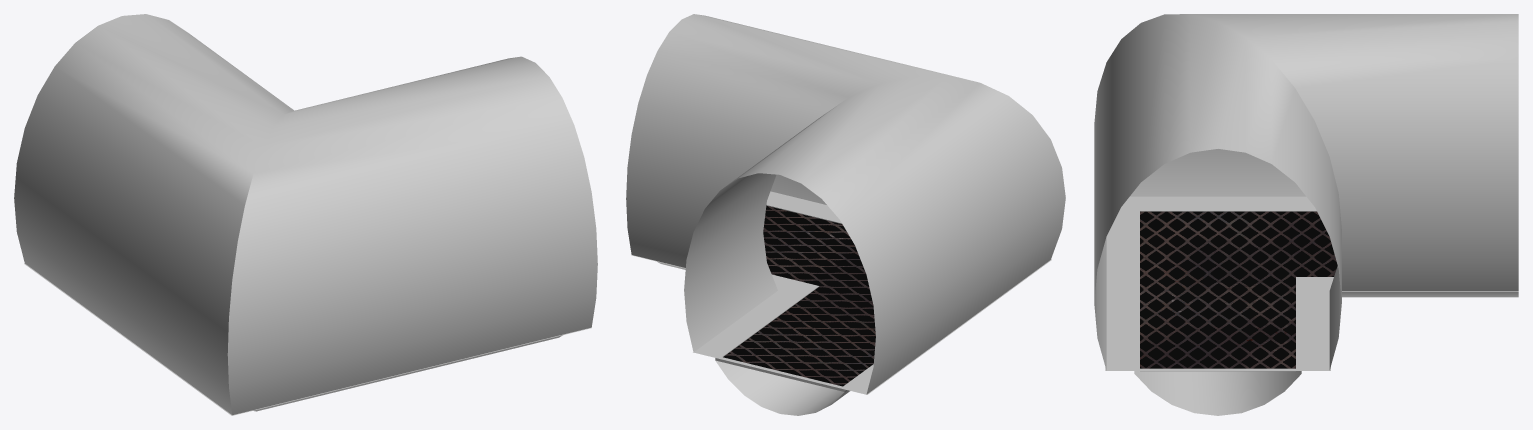
The model's file is Module_Corner.fbx.
3 renders of one model, left to right at view 1: azimuth 30°, elevation 25°; view 2: azimuth 150°, elevation 25°; view 3: azimuth 270°, elevation 25°, orthographic. The views are drawn at different scales.
Visible parts, largest first — view 1: Module_Corner; view 2: Module_Corner; view 3: Module_Corner.
Part boxes in pixels (bbox=[...]): Module_Corner: bbox=[14, 14, 597, 415]; Module_Corner: bbox=[626, 14, 1065, 415]; Module_Corner: bbox=[1094, 14, 1518, 415].
Size of the model in its own units: 1546 by 1074 by 1546.
